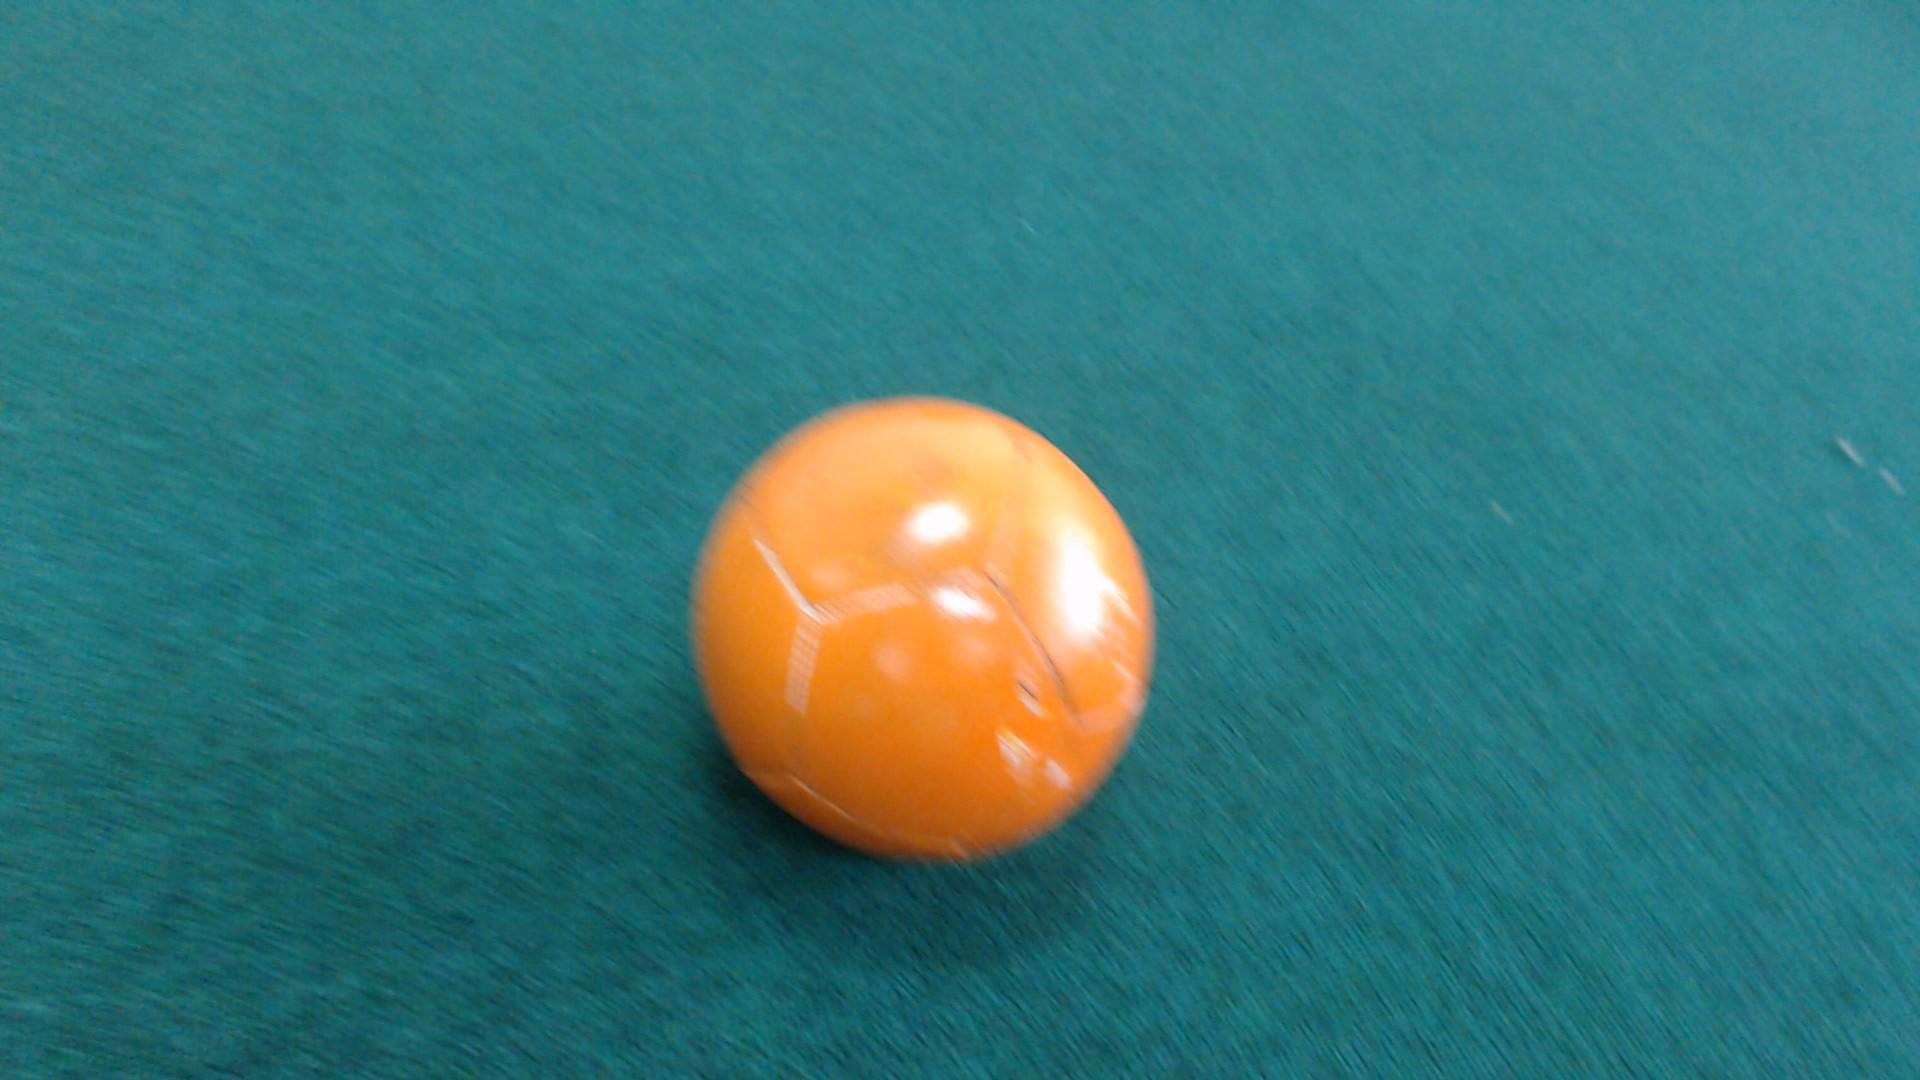bola: (675, 382, 1185, 876)
